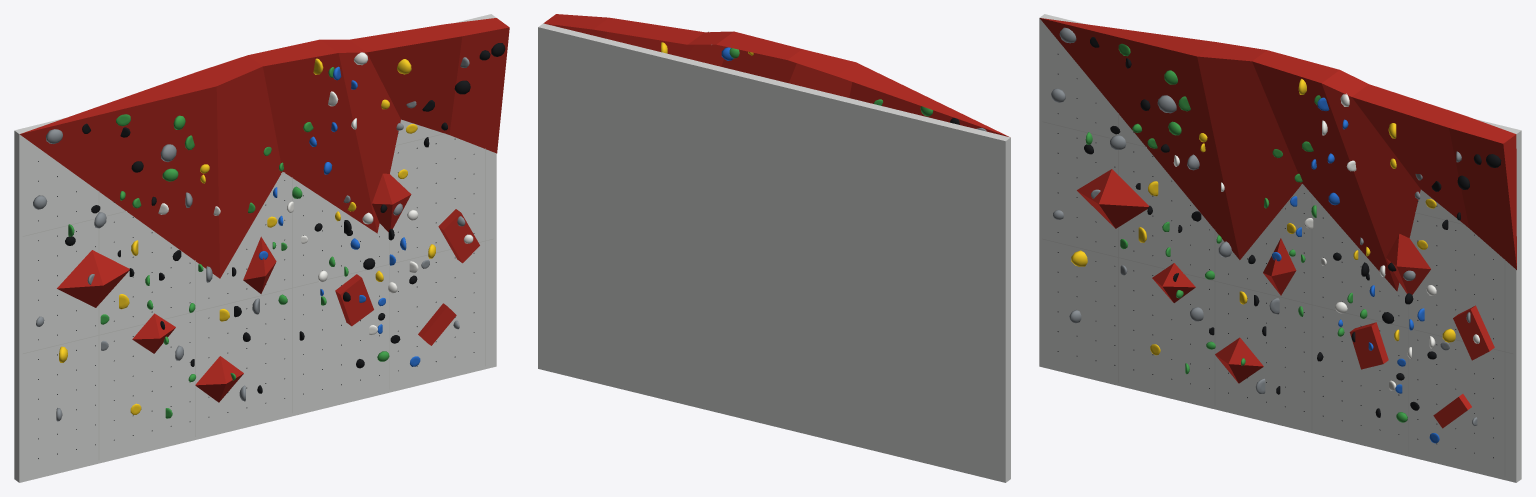
Rendered from gym_wall.glb.
3 views of the same model, side by side, from view 1: azimuth 30°, elevation 25°; view 2: azimuth 150°, elevation 25°; view 3: azimuth 330°, elevation 25° (orthographic). The views are drawn at different scales.
Visible parts, largest first — view 1: wall_structure, band_red, volume_pyr_0, panel_seams, volume_pyr_4, volume_pyr_2, volume_slab_0, volume_slab_1, volume_pyr_3, volume_pyr_1, volume_slab_2; view 2: wall_structure, band_red; view 3: wall_structure, band_red, panel_seams, volume_pyr_0, volume_pyr_4, volume_slab_1, volume_slab_0, volume_pyr_2, volume_pyr_3, volume_pyr_1, volume_slab_2.
Boxes of the visible parts, box(x1,y1,x2,y2) form: wall_structure: box(14, 14, 496, 482); band_red: box(19, 18, 509, 278); volume_pyr_0: box(57, 250, 129, 307); panel_seams: box(22, 133, 493, 460); volume_pyr_4: box(372, 173, 411, 232); volume_pyr_2: box(195, 356, 243, 402); volume_slab_0: box(335, 274, 373, 326); volume_slab_1: box(438, 209, 479, 263); volume_pyr_3: box(243, 236, 276, 293); volume_pyr_1: box(132, 313, 175, 353); volume_slab_2: box(418, 303, 456, 345); wall_structure: box(538, 23, 1010, 482); band_red: box(543, 14, 1008, 136); wall_structure: box(1039, 14, 1521, 482); band_red: box(1040, 18, 1516, 291); panel_seams: box(1042, 113, 1512, 476); volume_pyr_0: box(1077, 169, 1148, 228); volume_pyr_4: box(1386, 233, 1430, 294); volume_slab_1: box(1453, 305, 1494, 360); volume_slab_0: box(1349, 322, 1388, 369); volume_pyr_2: box(1215, 337, 1263, 383); volume_pyr_3: box(1263, 238, 1296, 295); volume_pyr_1: box(1152, 263, 1195, 302); volume_slab_2: box(1433, 394, 1471, 428).
Bounding box in the file's own units: 6.31 × 4.69 × 0.6058.
